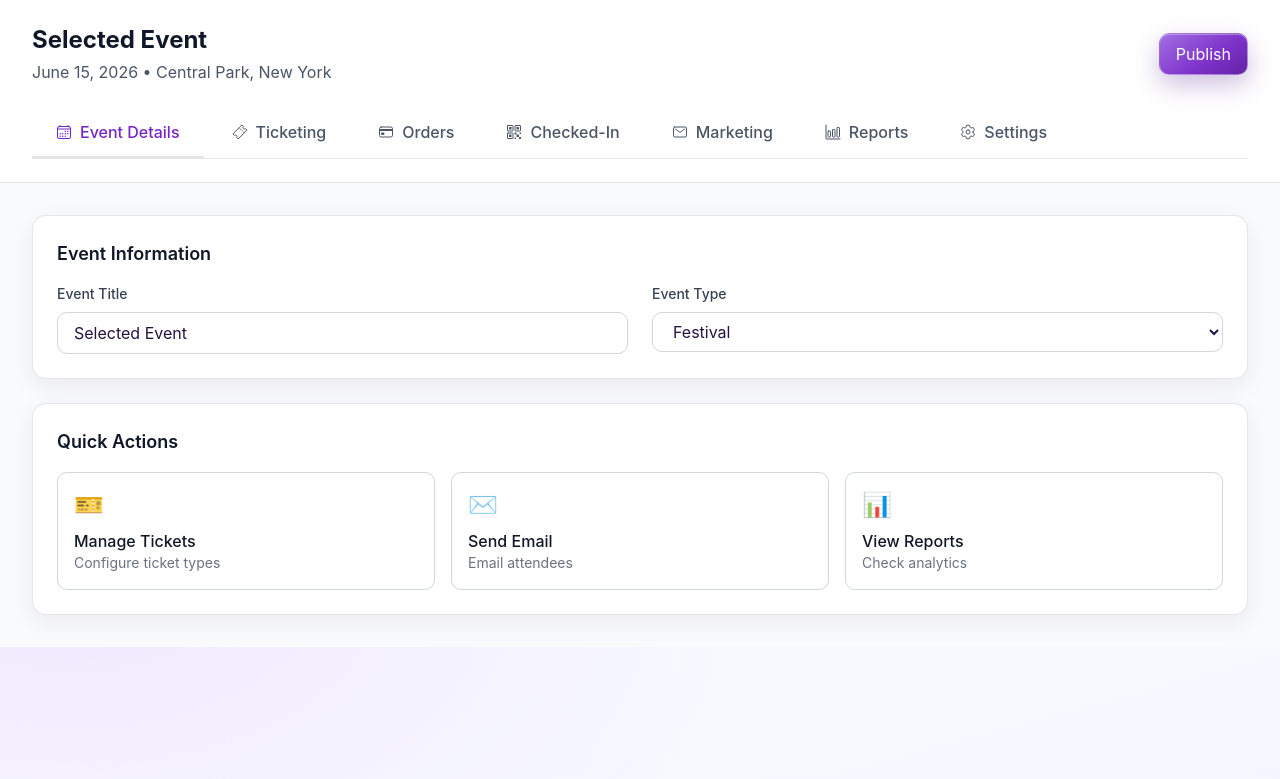
it: EventManagement checked-in flow › logs attendee check-ins in real time from scanned QR code
Click the button "Checked-In" at (563, 133), box [482, 108, 644, 158]
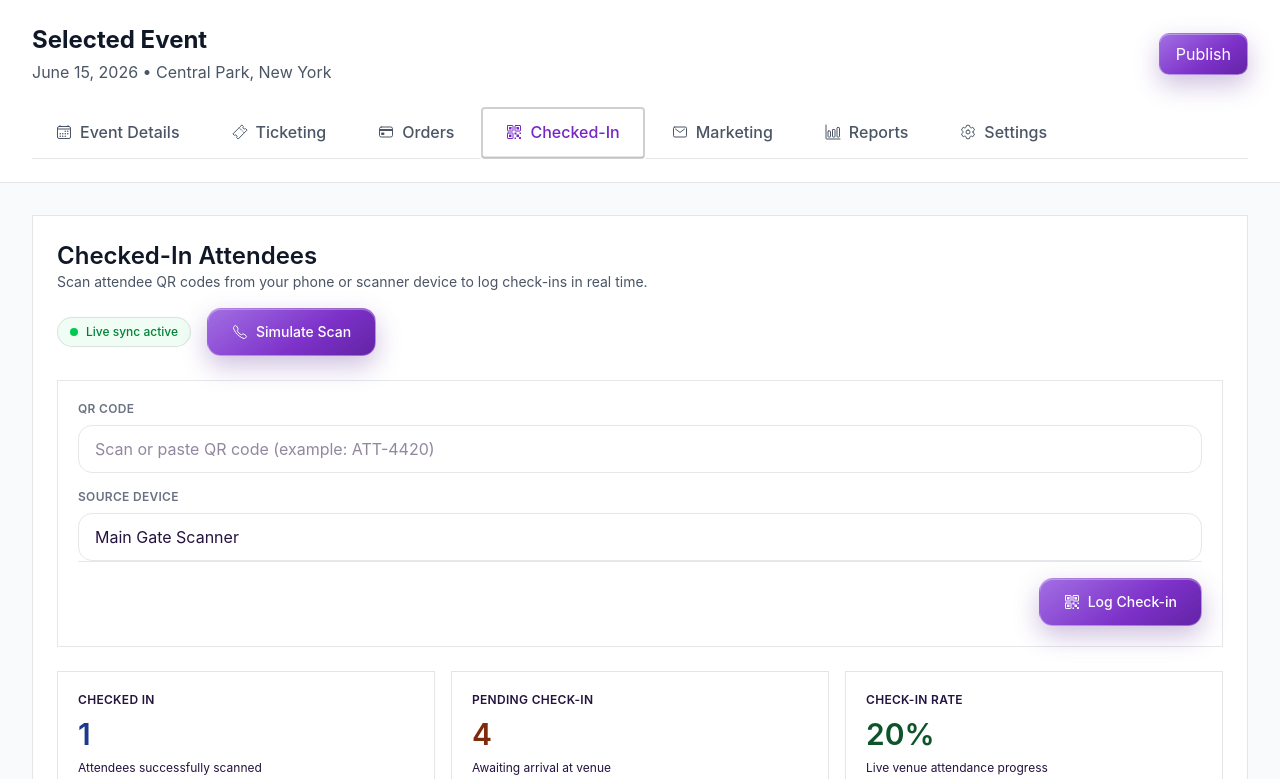
Type "ATT-4420" into the field with placeholder "Scan or paste QR code (example: ATT-4420)" at (640, 449), box [78, 425, 1202, 473]
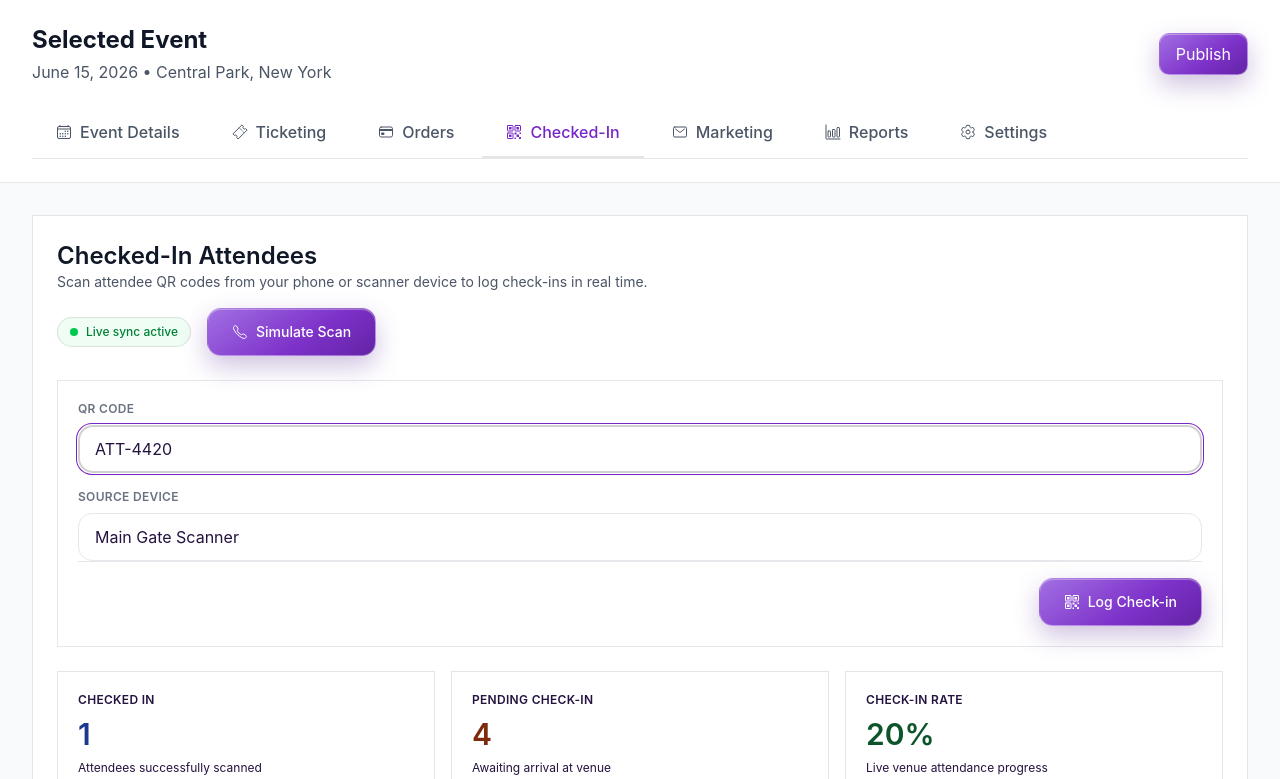
Click the button "Log Check-in" at (1120, 602), box [1039, 578, 1202, 626]
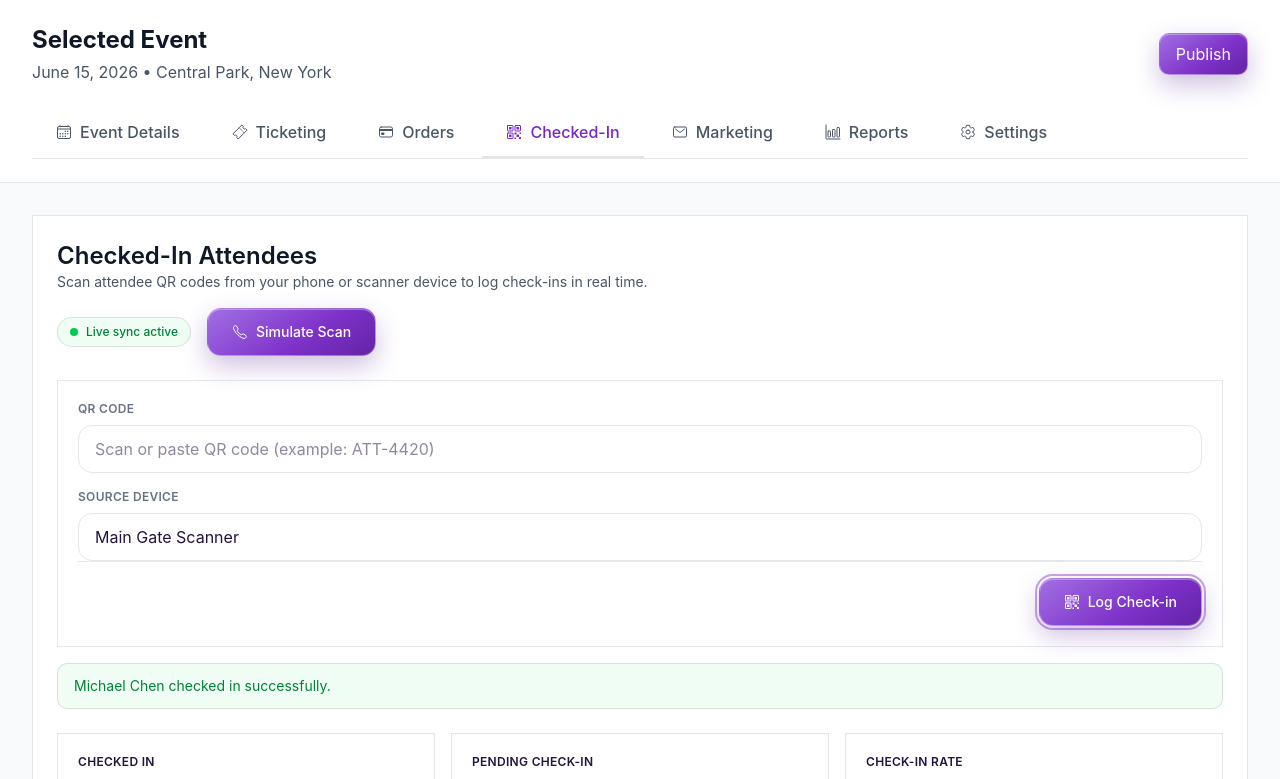
Expected: the text "Michael Chen checked in successfully." is shown, [57, 663, 1223, 709]
Type "ATT-4420" into the field with placeholder "Scan or paste QR code (example: ATT-4420)" at (640, 449), box [78, 425, 1202, 473]
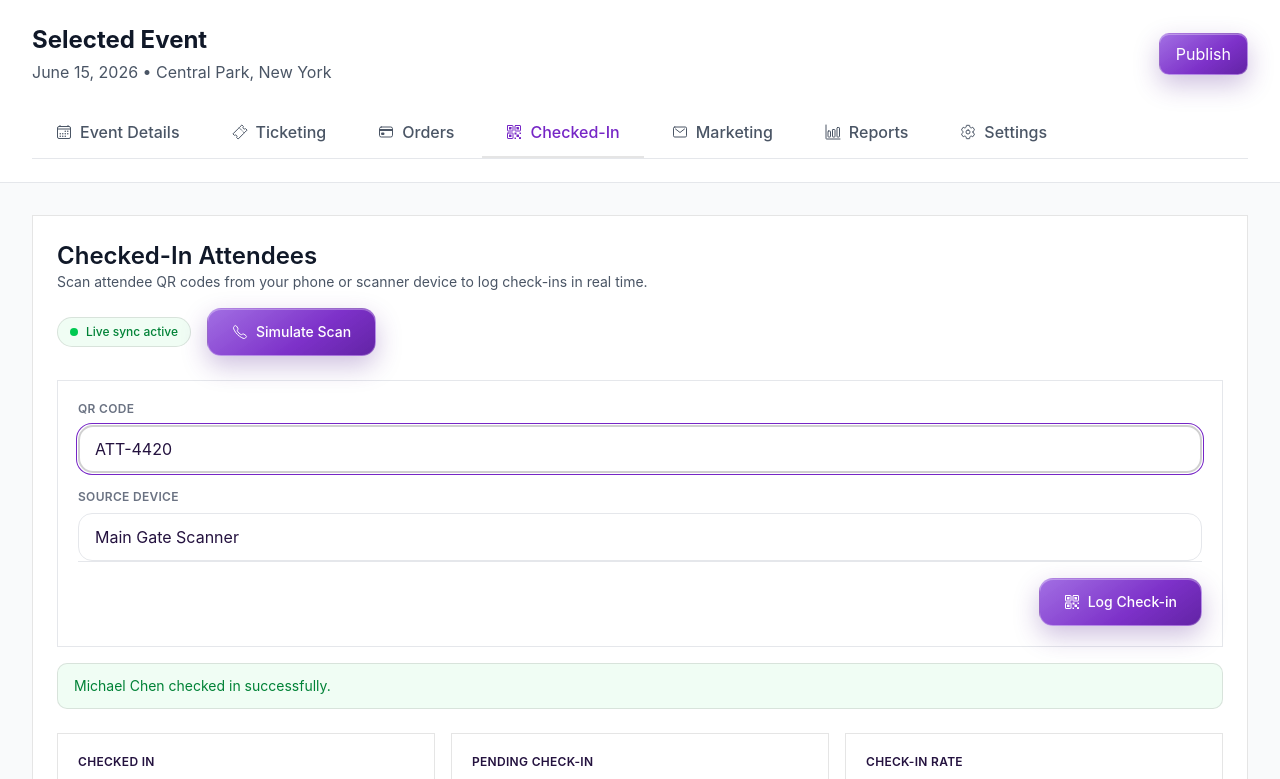
Click the button "Log Check-in" at (1120, 602), box [1039, 578, 1202, 626]
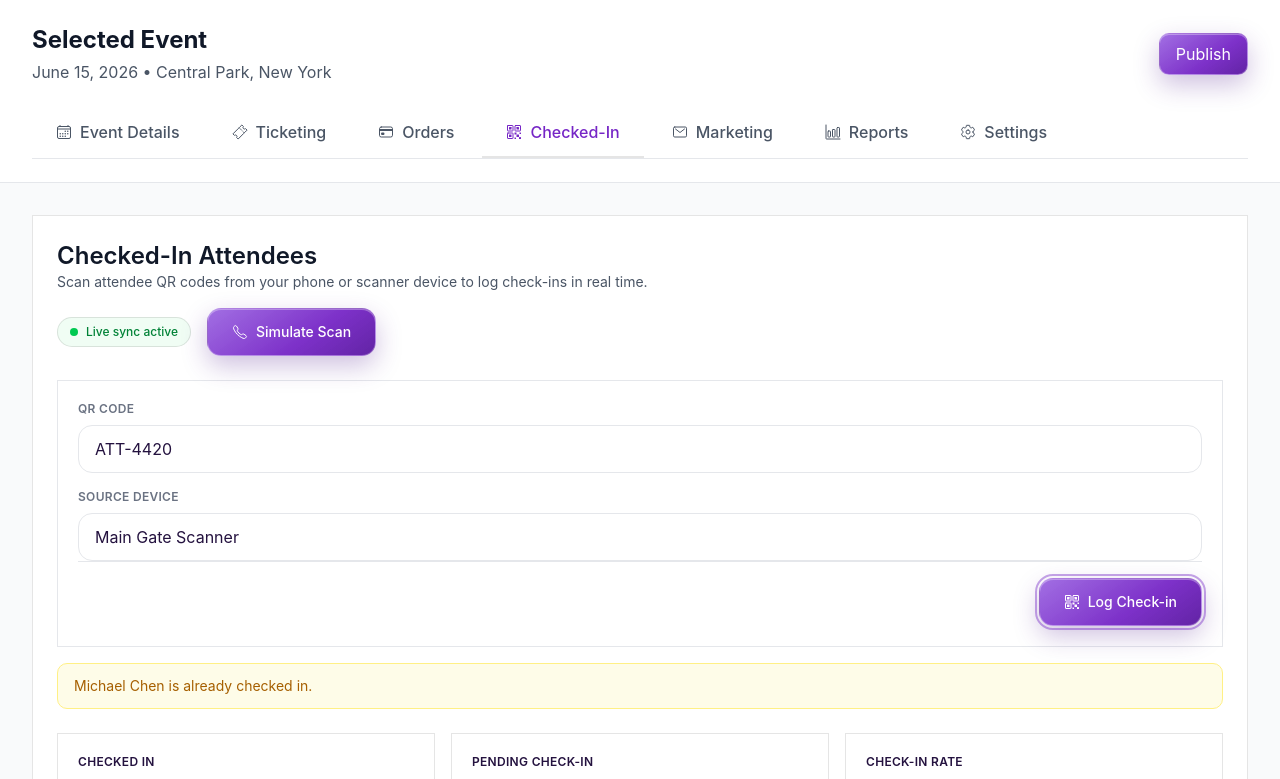
Expected: the text "Michael Chen is already checked in." is shown, [57, 663, 1223, 709]
